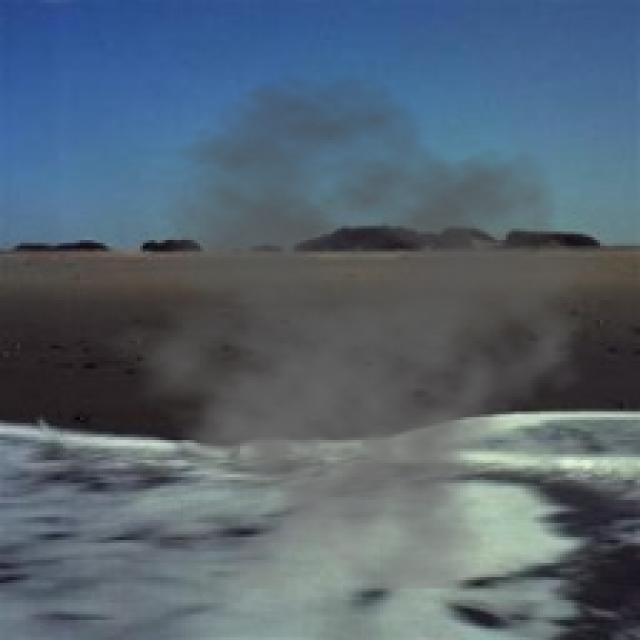smoke: (80, 74, 606, 589)
